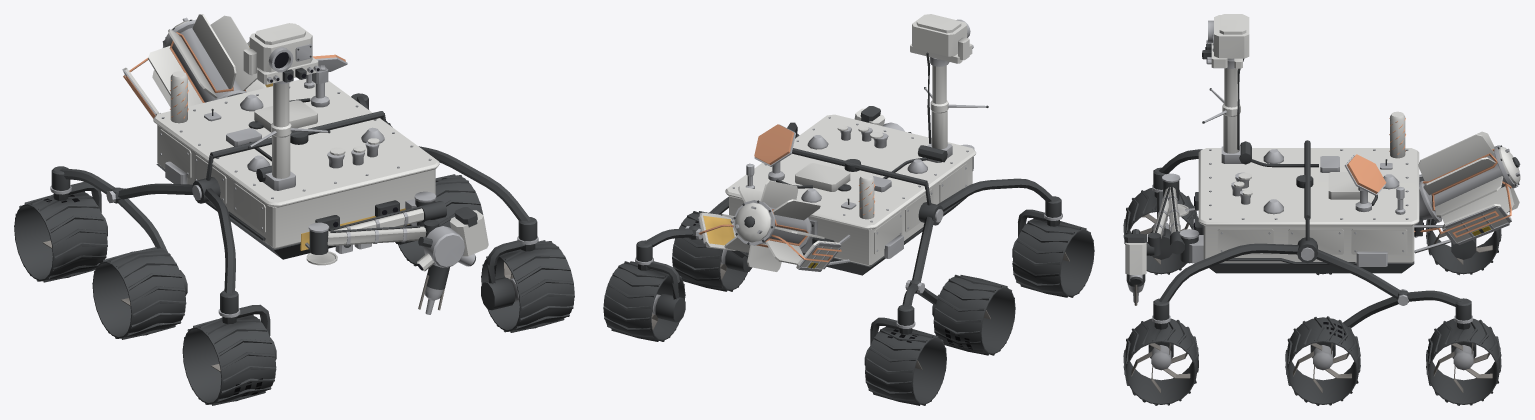
File: msl.glb
The picture shows the model from 3 angles, left to right: view 1: azimuth 30°, elevation 25°; view 2: azimuth 150°, elevation 25°; view 3: azimuth 270°, elevation 25°; orthographic projection. The views are drawn at different scales.
Visible parts, largest first — view 1: msl_mesh, arm_mesh, mast_mesh; view 2: msl_mesh, mast_mesh, arm_mesh; view 3: msl_mesh, mast_mesh, arm_mesh.
Part boxes in pixels (x1,y1,x2,y2): msl_mesh: [14, 14, 574, 405]; arm_mesh: [308, 191, 488, 314]; mast_mesh: [243, 23, 330, 190]; msl_mesh: [603, 114, 1094, 405]; mast_mesh: [910, 14, 988, 162]; arm_mesh: [854, 106, 974, 170]; msl_mesh: [1123, 111, 1520, 405]; mast_mesh: [1202, 14, 1251, 164]; arm_mesh: [1125, 173, 1199, 305].
Size of the model in its own units: 2.6 by 2.21 by 2.82.
